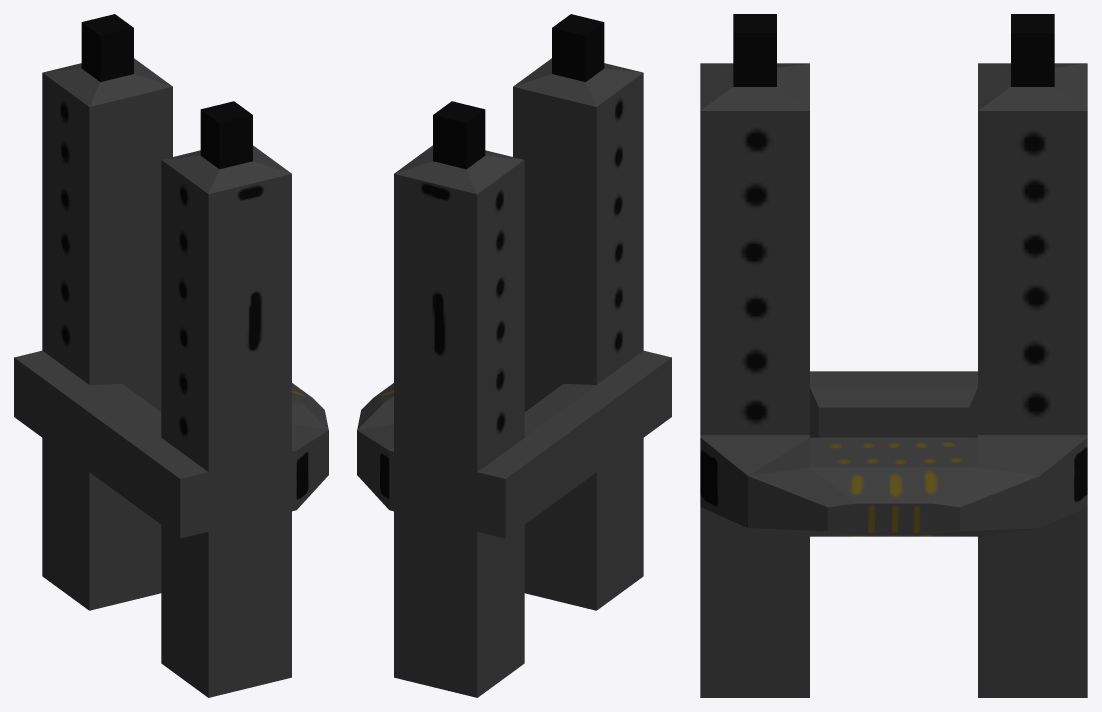
File: weapon2.obj
3 views of the same model, side by side, from view 1: azimuth 30°, elevation 25°; view 2: azimuth 150°, elevation 25°; view 3: azimuth 270°, elevation 25° (orthographic). The views are drawn at different scales.
Parts seen in each view (by area): view 1: ArmWeapon2; view 2: ArmWeapon2; view 3: ArmWeapon2.
Part boxes in pixels (left/top/right/bottom): ArmWeapon2: left=14, top=14, right=328, bottom=697; ArmWeapon2: left=357, top=14, right=671, bottom=697; ArmWeapon2: left=700, top=14, right=1087, bottom=697.
Bounding box in the file's own units: 2.22 × 5.94 × 3.21.
1 material, 1 textured.
